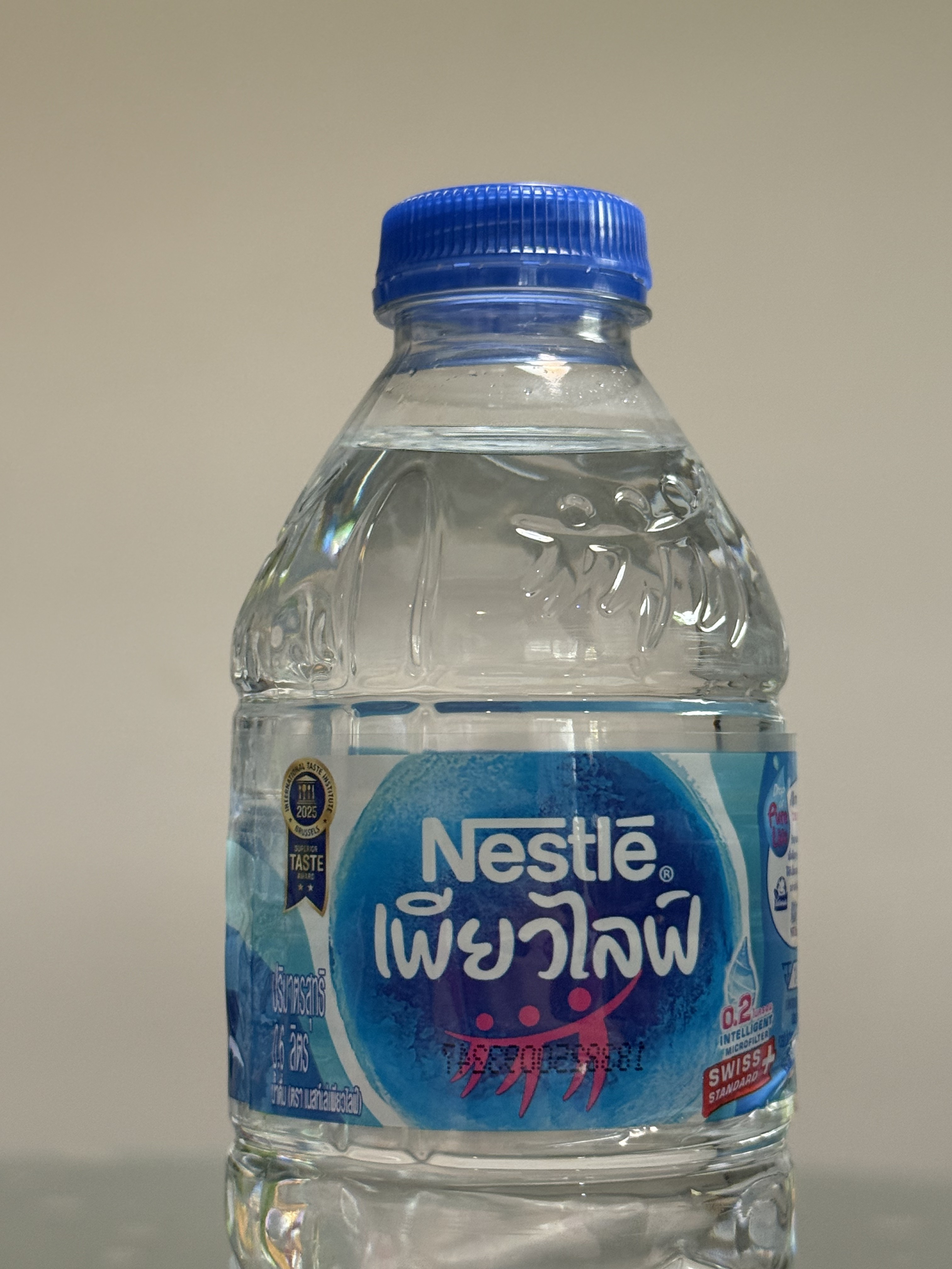closed_cap: (369, 178, 656, 325)
